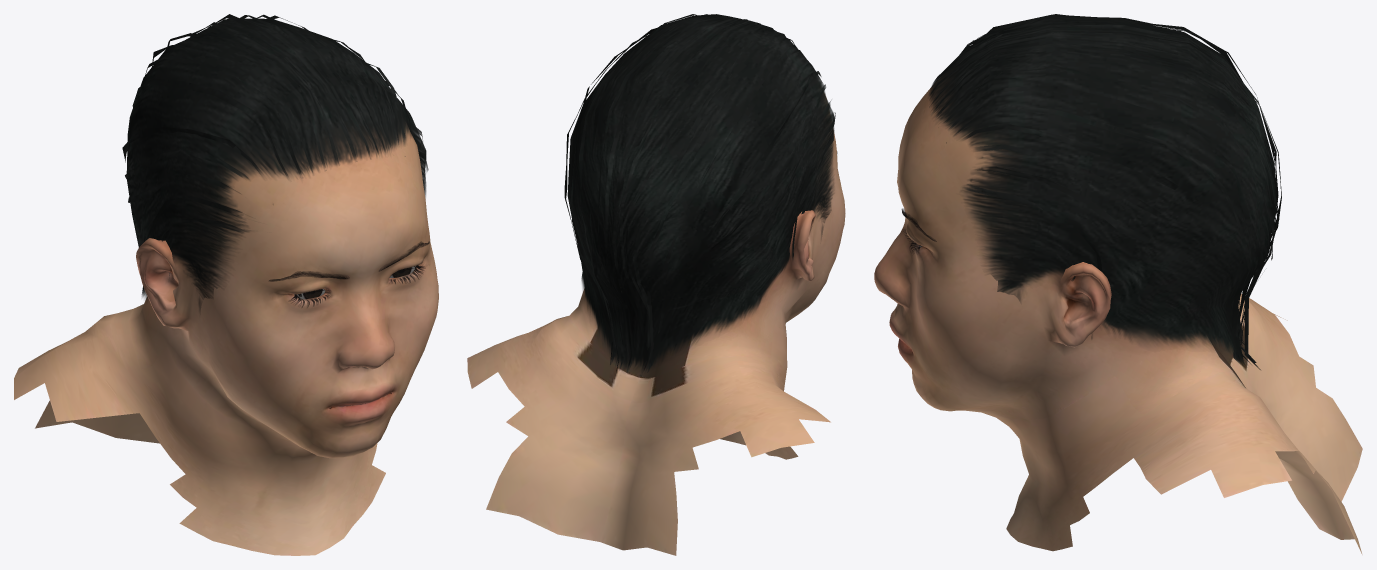
Rendered from patient08.glb.
3 views of the same model, side by side, from view 1: azimuth 30°, elevation 25°; view 2: azimuth 150°, elevation 25°; view 3: azimuth 270°, elevation 25° (orthographic). The views are drawn at different scales.
Parts seen in each view (by area): view 1: ma_dongcheol.body, ma_dongcheol.short04, ma_dongcheol.eyebrow002, ma_dongcheol.eyelashes01; view 2: ma_dongcheol.short04, ma_dongcheol.body; view 3: ma_dongcheol.body, ma_dongcheol.short04.
Boxes of the visible parts, x1,y1,x2,y2 form: ma_dongcheol.body: (14, 126, 438, 555); ma_dongcheol.short04: (122, 14, 428, 312); ma_dongcheol.eyebrow002: (269, 241, 429, 281); ma_dongcheol.eyelashes01: (288, 265, 425, 307); ma_dongcheol.short04: (564, 14, 835, 377); ma_dongcheol.body: (467, 93, 845, 555); ma_dongcheol.body: (874, 80, 1362, 554); ma_dongcheol.short04: (928, 14, 1281, 369).
Size of the model in its own units: 0.2549 by 0.3029 by 0.2689.
Materials: 8 (7 with a texture image).
